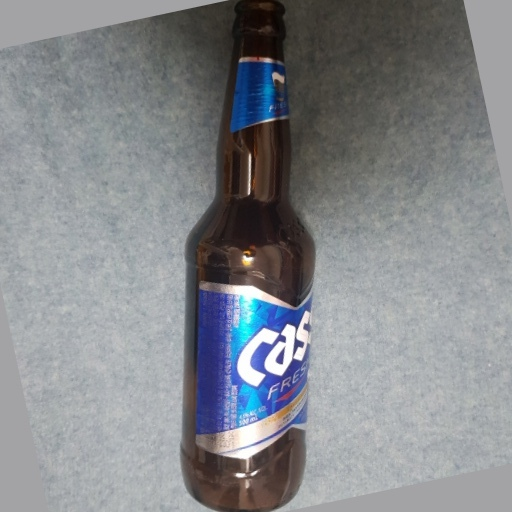Glass_1: (181, 1, 321, 512)
